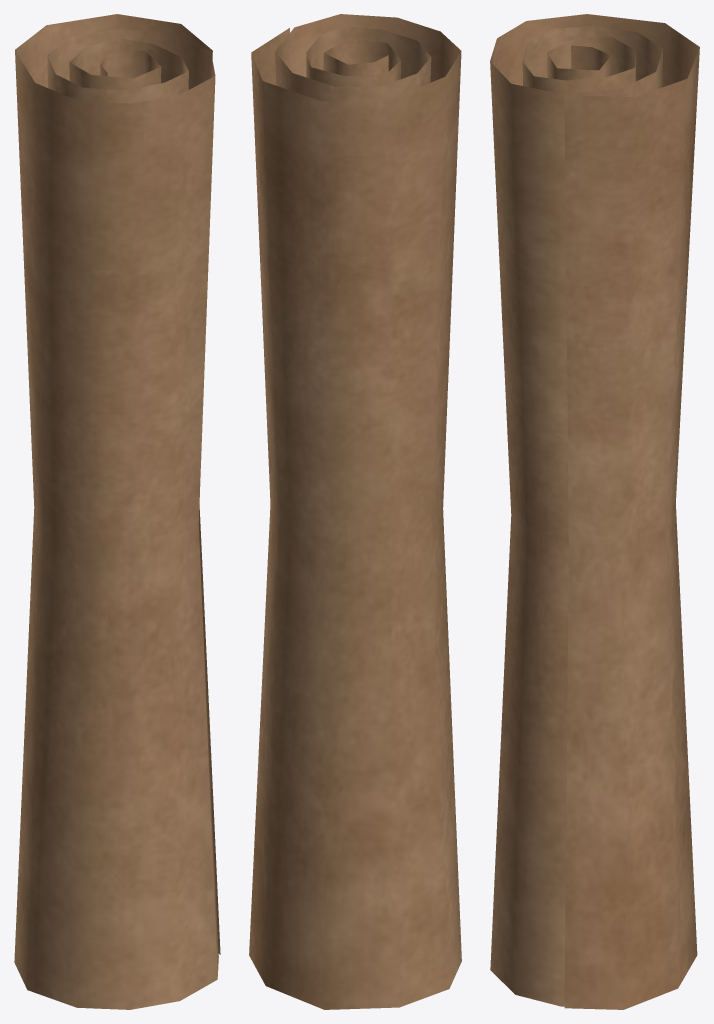
The model's file is p_shougao.fbx.
3 renders of one model, left to right at view 1: azimuth 30°, elevation 25°; view 2: azimuth 150°, elevation 25°; view 3: azimuth 270°, elevation 25°, orthographic.
Visible parts, largest first — view 1: mesh_shougao; view 2: mesh_shougao; view 3: mesh_shougao.
Boxes of the visible parts, x1,y1,x2,y2 form: mesh_shougao: (14,14,220,1009); mesh_shougao: (249,14,461,1009); mesh_shougao: (490,14,699,1009).
Size of the model in its own units: 7.1 by 33.5 by 7.
Materials: 1 (1 with a texture image).
